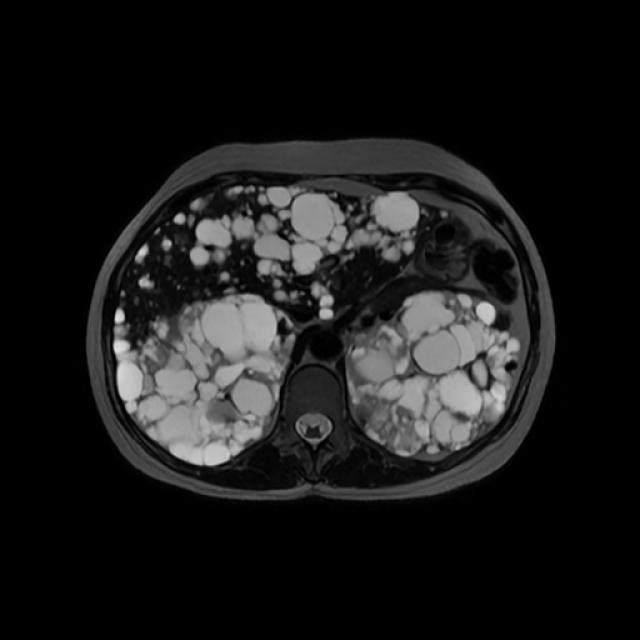sag: (115, 293, 297, 466)
sol: (344, 289, 522, 457)
